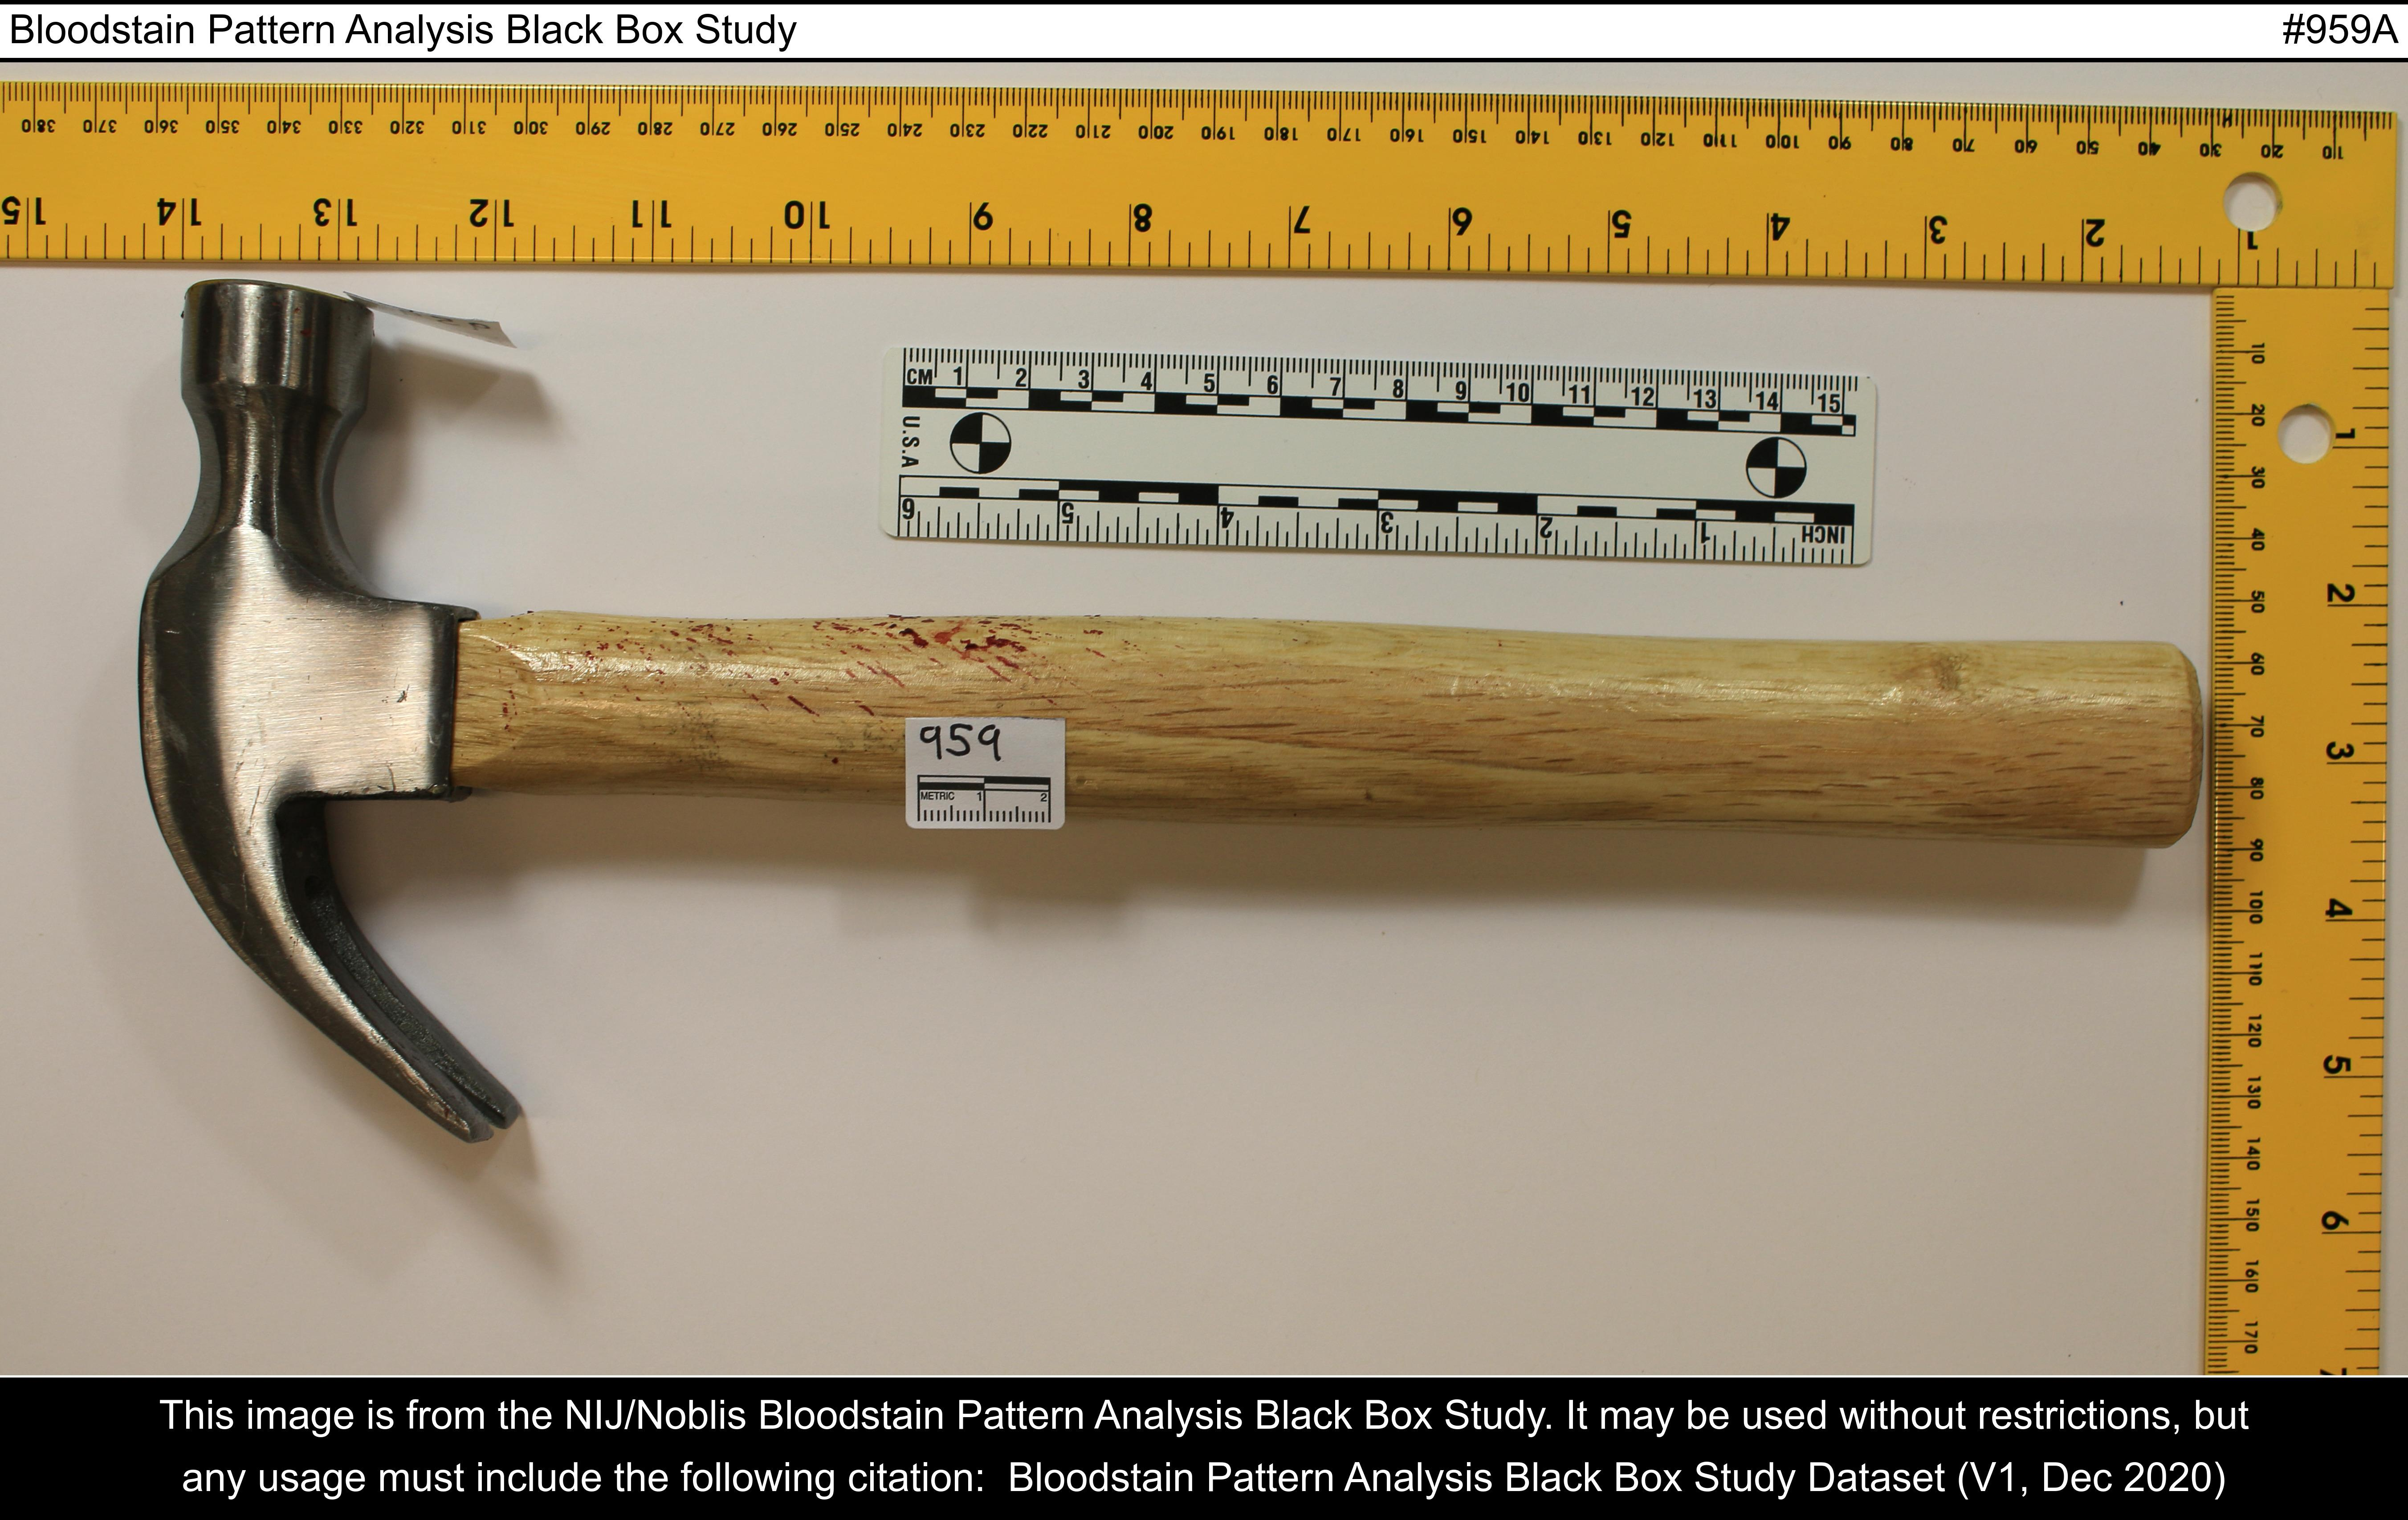Impact: (464, 629, 1161, 795)
